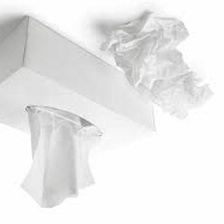book: (0, 12, 159, 160)
tissue: (96, 7, 217, 125), (15, 102, 106, 211)
